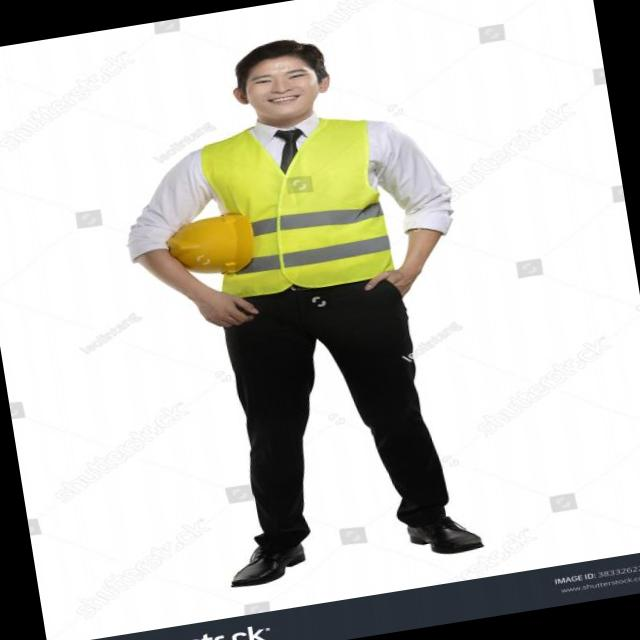Helmet: (170, 208, 274, 290)
Vest: (198, 109, 418, 308)
